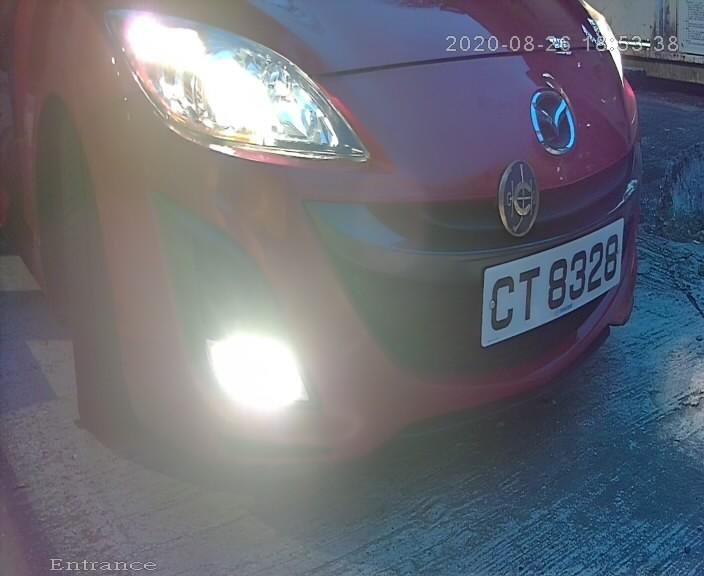License Plate: (463, 197, 637, 359)
